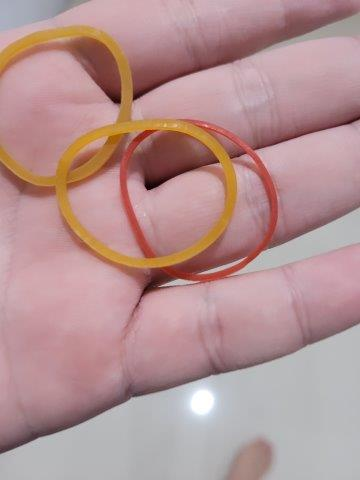karet: (56, 117, 240, 268), (121, 118, 279, 283), (1, 25, 133, 191)
